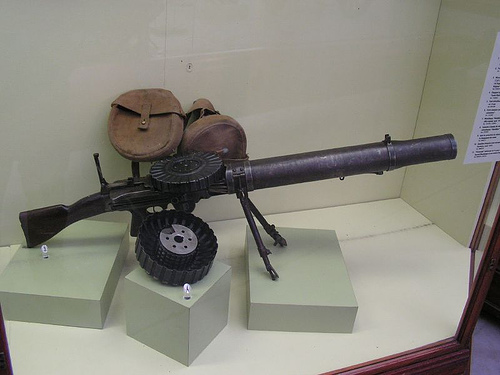rifle: (18, 126, 468, 259)
